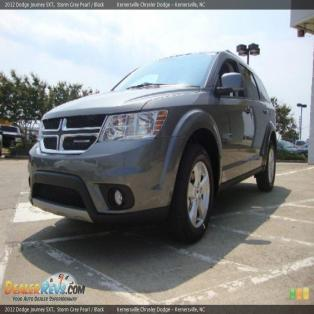Auto: (28, 51, 278, 247)
